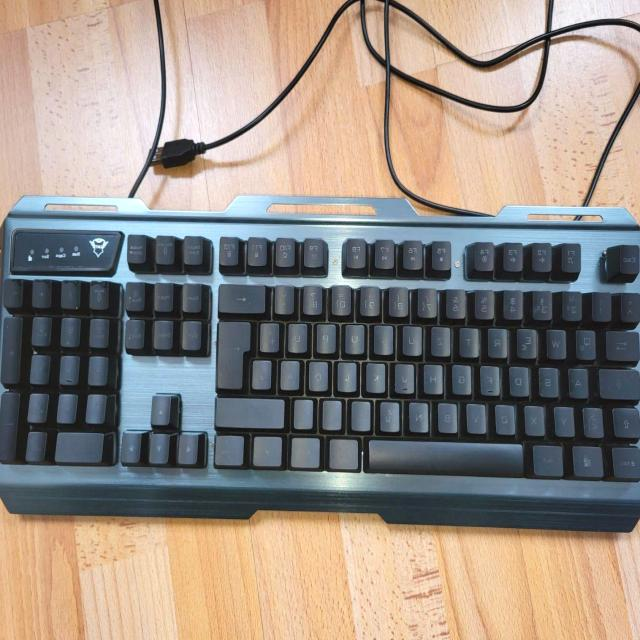0: (332, 281, 354, 313)
1: (593, 289, 615, 320)
2: (564, 287, 585, 319)
3: (534, 287, 555, 319)
4: (504, 286, 526, 318)
5: (475, 286, 497, 318)
6: (447, 285, 469, 317)
7: (419, 284, 440, 316)
8: (390, 283, 412, 316)
9: (361, 282, 383, 314)
a: (571, 364, 591, 396)
accent: (277, 282, 297, 312)
ae: (283, 357, 303, 389)
alt-left: (535, 441, 566, 474)
altgr-right: (330, 435, 362, 468)
b: (439, 399, 461, 431)
c: (497, 401, 518, 433)
caret: (623, 289, 640, 320)
comma: (353, 397, 375, 429)
d: (510, 363, 532, 395)
del: (221, 281, 269, 312)
e: (518, 325, 540, 357)
enter: (219, 317, 255, 388)
f: (482, 362, 502, 394)
g: (454, 361, 474, 393)
h: (425, 360, 446, 392)
hash: (255, 356, 275, 388)
i: (375, 321, 396, 352)
j: (397, 359, 417, 392)
k: (368, 359, 389, 391)
keyboard: (0, 195, 640, 535)
l: (339, 358, 360, 390)
less: (585, 404, 607, 436)
m: (381, 398, 403, 430)
minus: (295, 395, 316, 427)
n: (411, 398, 432, 430)
o: (346, 320, 368, 352)
oe: (311, 357, 332, 389)
p: (317, 320, 339, 352)
plus: (262, 319, 283, 351)
point: (323, 396, 345, 429)
q: (577, 326, 599, 358)
r: (489, 324, 510, 356)
s: (540, 364, 562, 396)
shift-left: (614, 405, 640, 437)
shift-lock: (600, 366, 640, 398)
shift-right: (218, 394, 288, 426)
space: (369, 436, 527, 472)
ss: (305, 281, 326, 313)
strg-left: (614, 443, 640, 477)
strg-right: (216, 432, 248, 464)
t: (462, 323, 482, 355)
tab: (608, 327, 640, 359)
u: (404, 322, 425, 354)
ue: (289, 319, 310, 351)
v: (469, 400, 489, 432)
w: (548, 325, 568, 357)
x: (526, 402, 547, 434)
y: (556, 403, 577, 435)
z: (433, 323, 454, 355)
